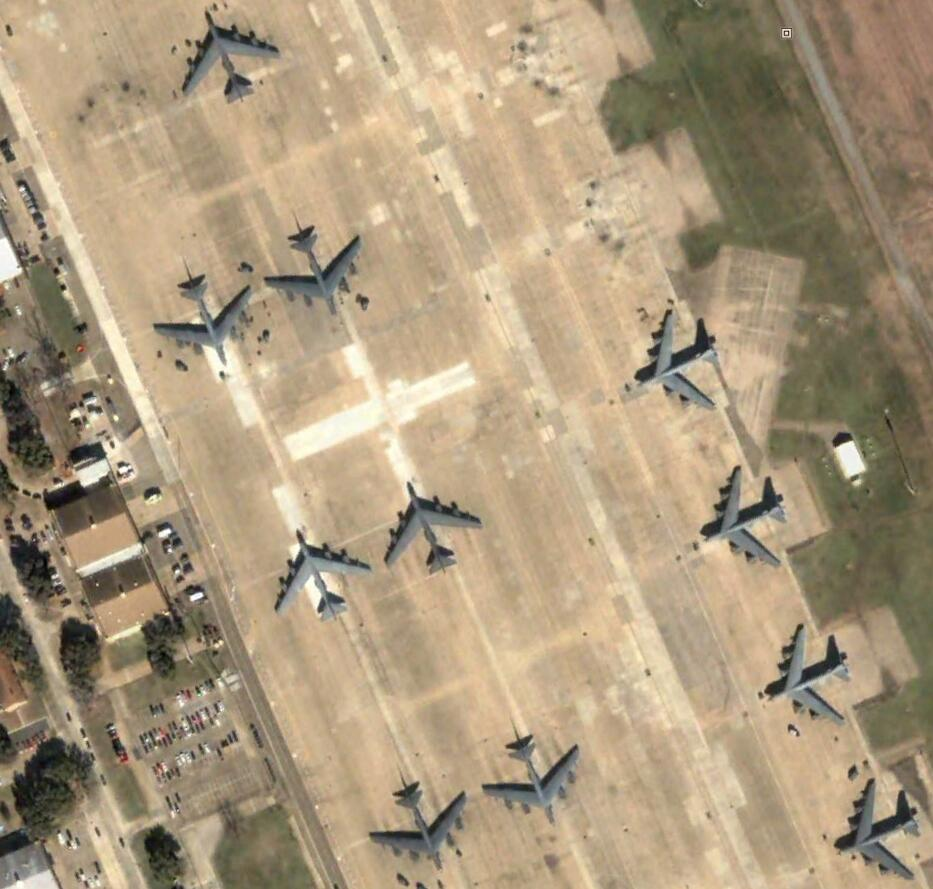A8: (149, 267, 256, 375), (760, 618, 858, 732), (263, 214, 367, 320), (177, 10, 287, 110), (264, 526, 375, 625), (624, 308, 728, 412), (364, 774, 471, 873), (483, 728, 587, 828), (378, 477, 484, 575), (698, 464, 793, 570), (833, 777, 923, 882)
